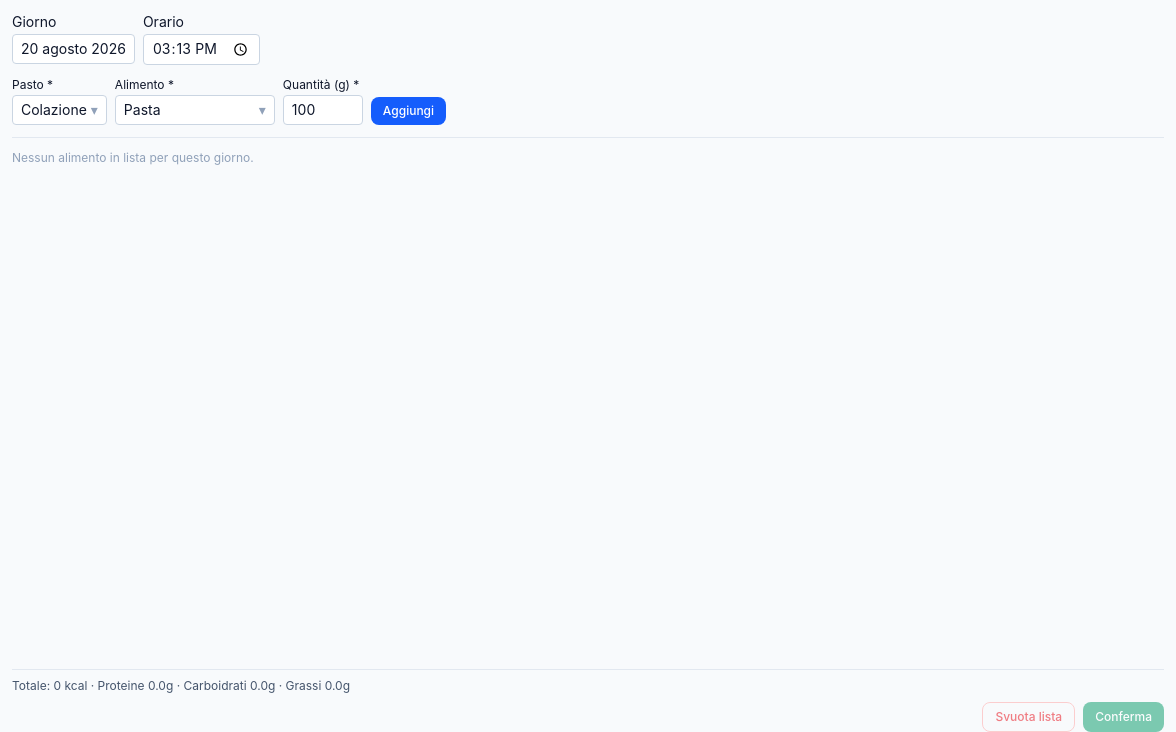
RegistraPastoPanel › RegistraPastoPanel_aggiungiAlimento_creaUnaRigaInBozzaConLeKcalCalcolate
Expected: the button named "Pasto *" is shown, [12,95,107,125]
Click the button "Aggiungi" at (408, 111), box [371,97,446,125]
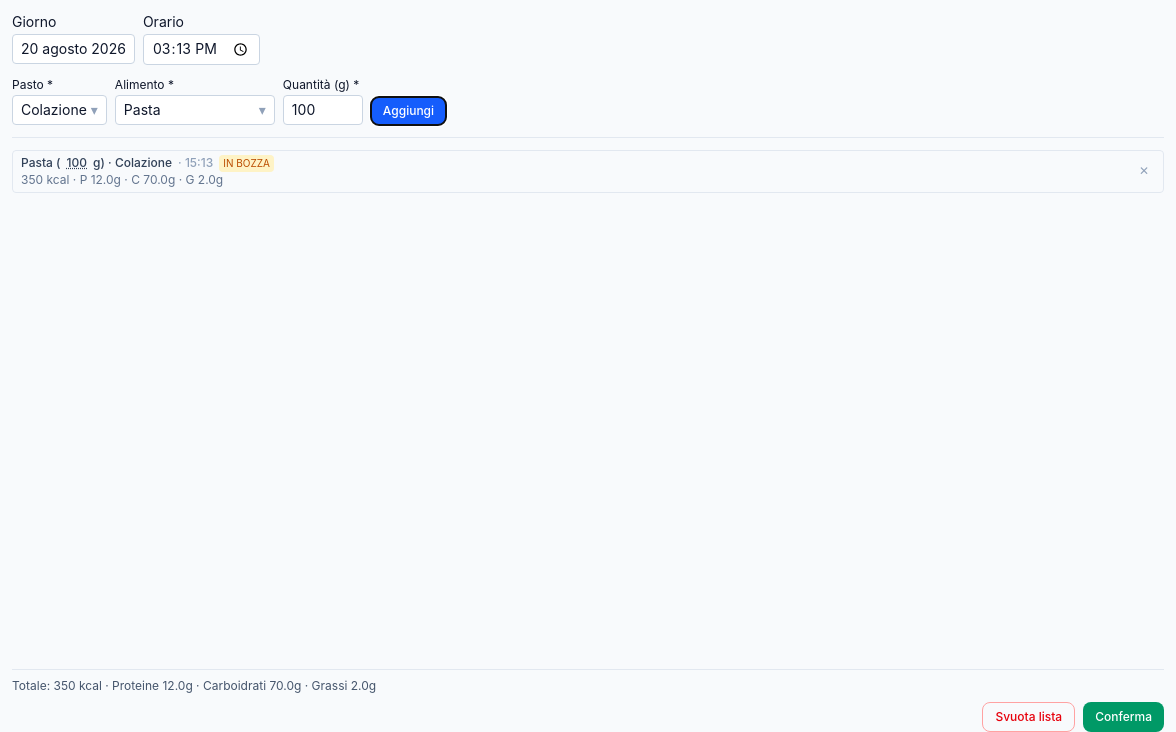
Expected: the text "350 kcal · P 12.0g · C 70.0g · G 2.0g" is shown, [21,172,223,187]
